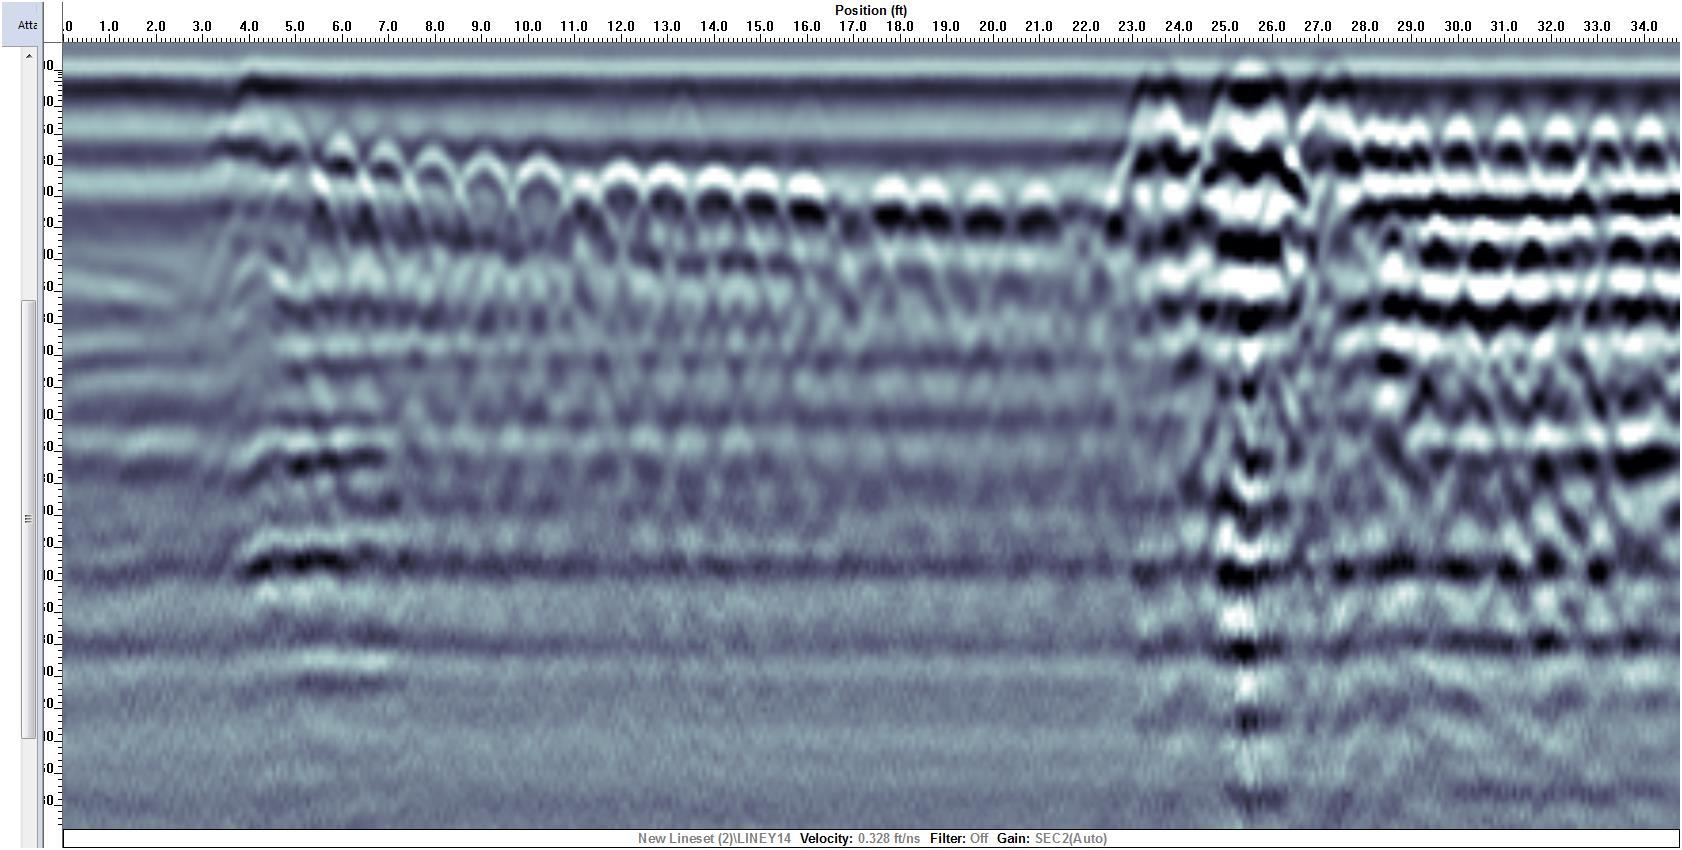hyperbola: (448, 147, 521, 252), (629, 155, 699, 253), (727, 164, 792, 256)
